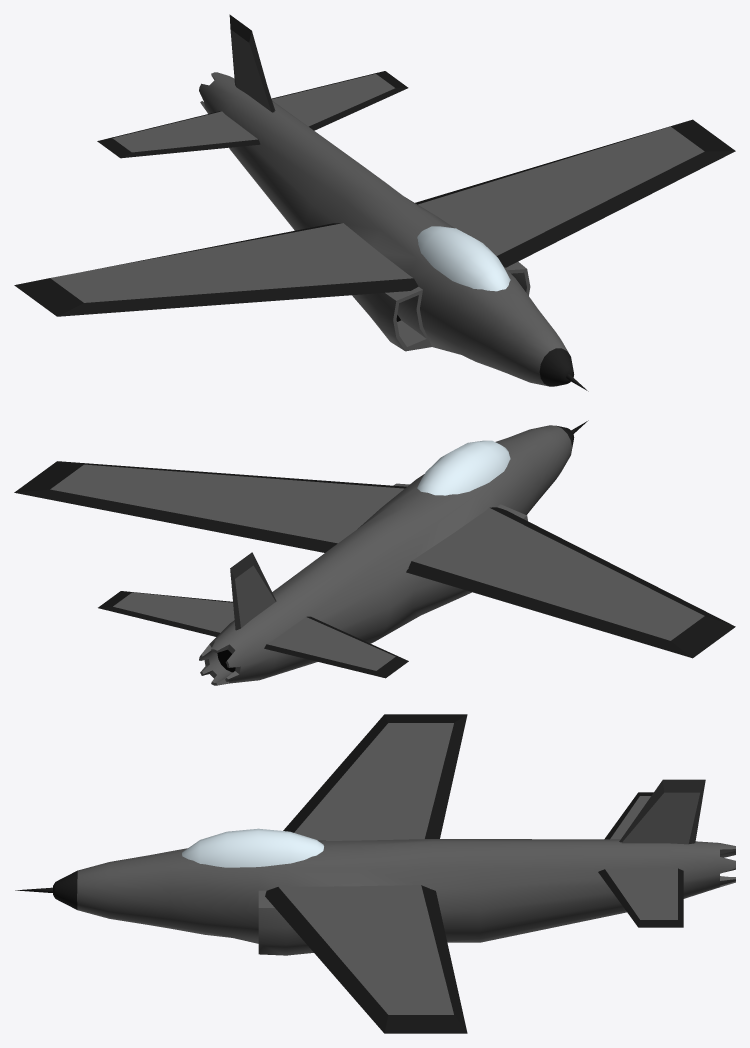
Rendered from Jet.fbx.
The picture shows the model from 3 angles, top to bottom: view 1: azimuth 30°, elevation 25°; view 2: azimuth 150°, elevation 25°; view 3: azimuth 270°, elevation 25°; orthographic projection. The views are drawn at different scales.
Visible parts, largest first — view 1: Jet; view 2: Jet; view 3: Jet.
Boxes of the visible parts, x1,y1,x2,y2 form: Jet: [14, 14, 735, 391]; Jet: [14, 420, 735, 685]; Jet: [15, 714, 735, 1033].
Size of the model in its own units: 908 by 211 by 867.
